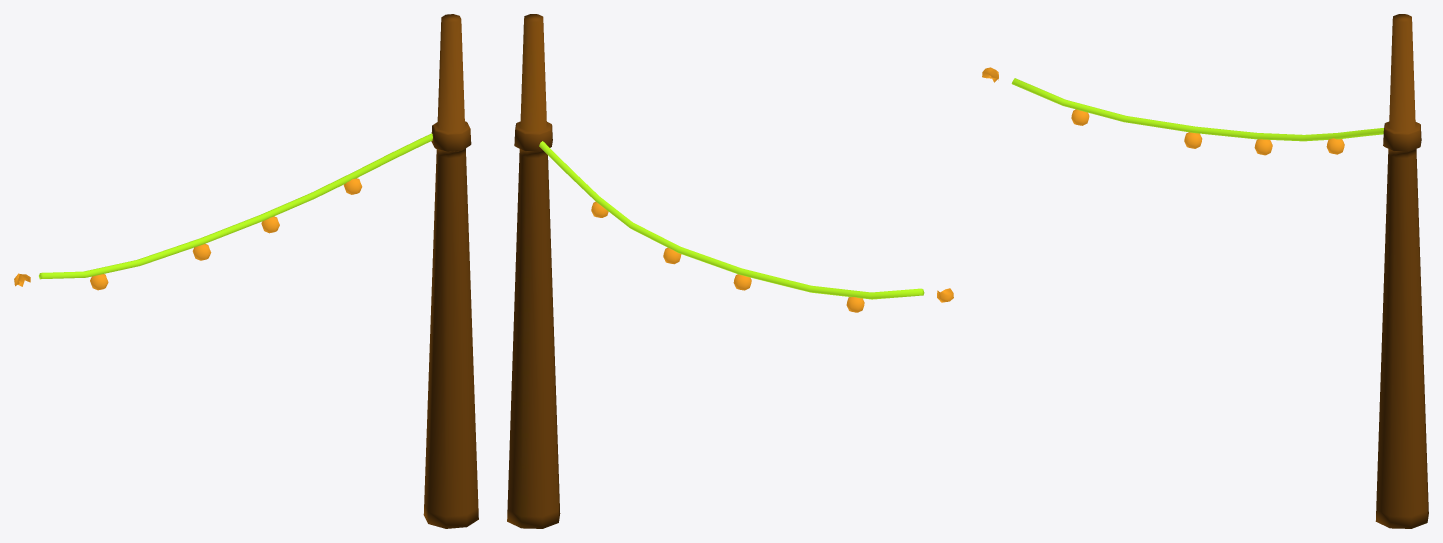
File: stringLights-optimized.glb
3 views of the same model, side by side, from view 1: azimuth 30°, elevation 25°; view 2: azimuth 150°, elevation 25°; view 3: azimuth 330°, elevation 25° (orthographic).
Visible parts, largest first — view 1: Cylinder.003; view 2: Cylinder.003; view 3: Cylinder.003.
Boxes of the visible parts, x1=… form: Cylinder.003: x1=14, y1=14, x2=478, y2=528; Cylinder.003: x1=507, y1=14, x2=953, y2=528; Cylinder.003: x1=982, y1=14, x2=1428, y2=528.
Size of the model in its own units: 18.6 by 19.62 by 2.84.
2 materials, 2 textured.
